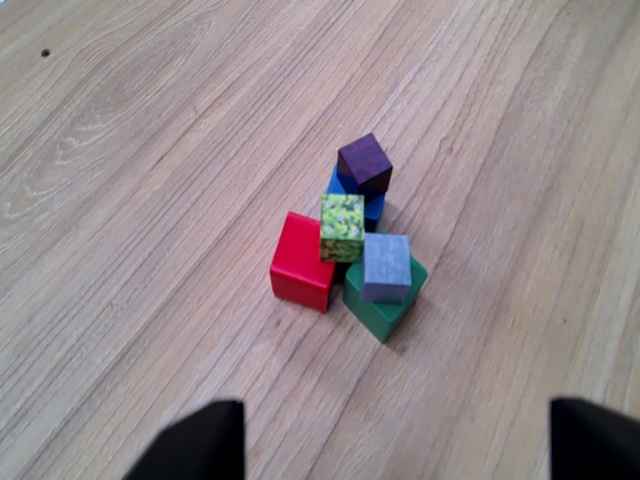brick: (338, 135, 394, 195)
grass: (319, 191, 360, 261)
stone: (363, 232, 412, 302)
